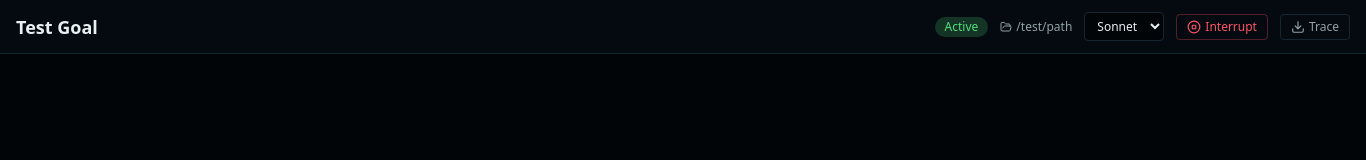
GoalHeader › cancels title editing on Escape
Click the button with test id "goal-title-display". click: (68, 26)
box: [16,12,120,40]
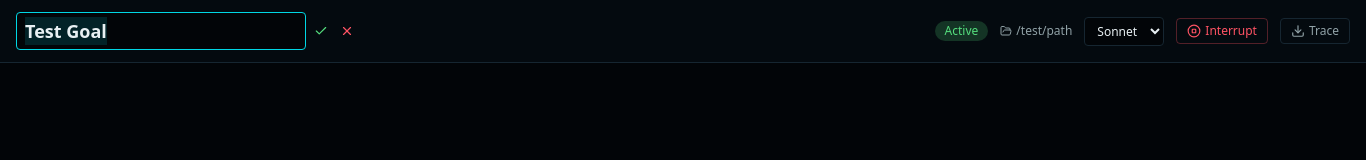
Replace the text in the field with test id "goal-title-input" with "Something new". click: (161, 31)
box: [16,12,306,50]
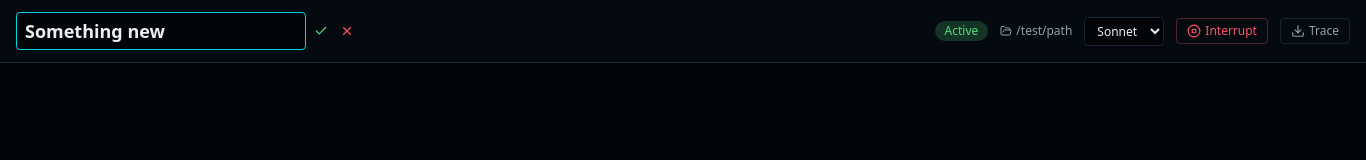
Press Escape
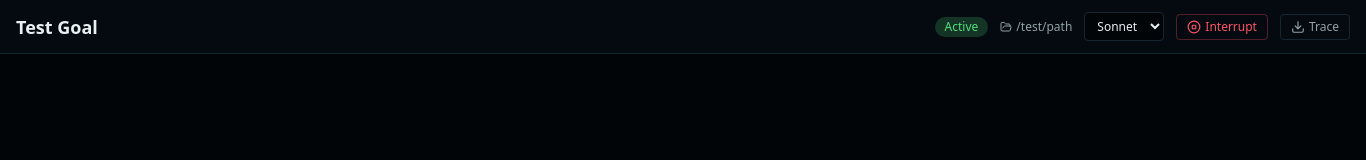
Result: the heading "Test Goal" is shown at [16,12,98,40]
